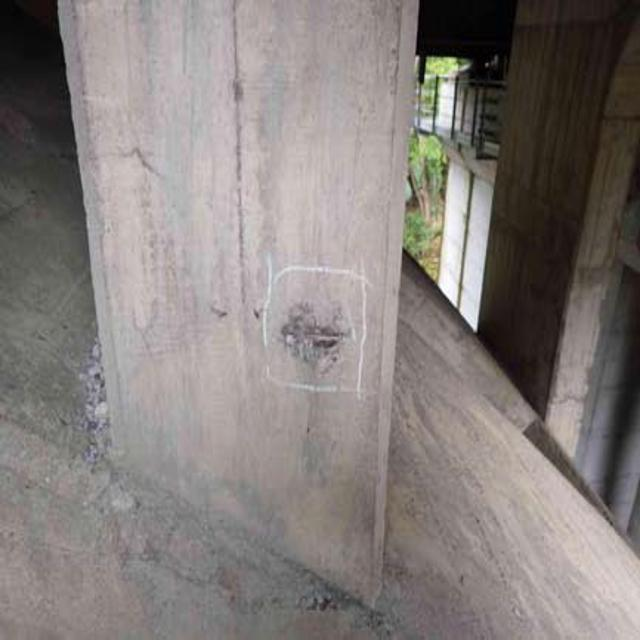spalling: (273, 298, 370, 393)
